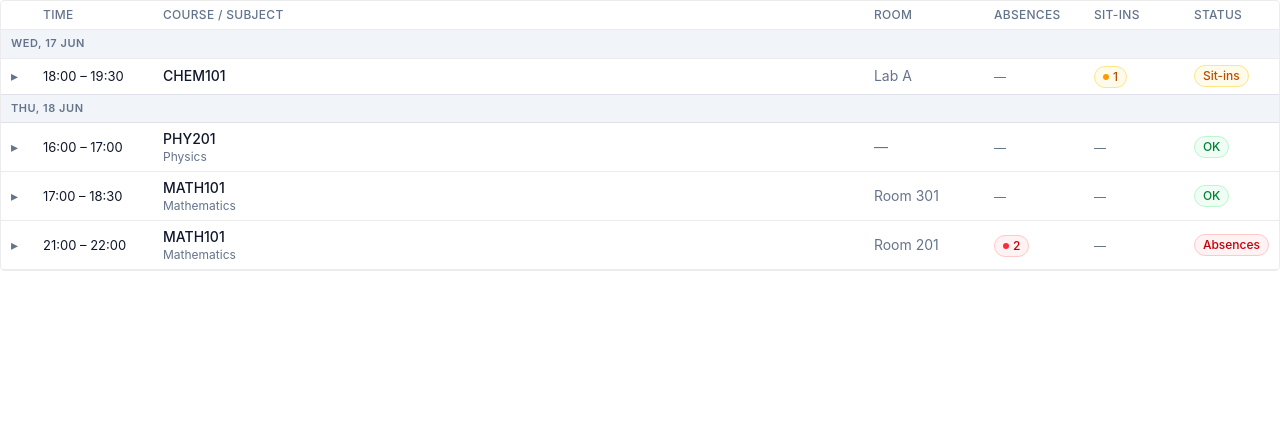
Scenario: SessionTable › expanded detail shows absent student names and wcodes
What coordinates should you click on to do the following:
click the text "2"
I would click on:
 (1012, 246)
Its box is 994,235 -> 1029,257.
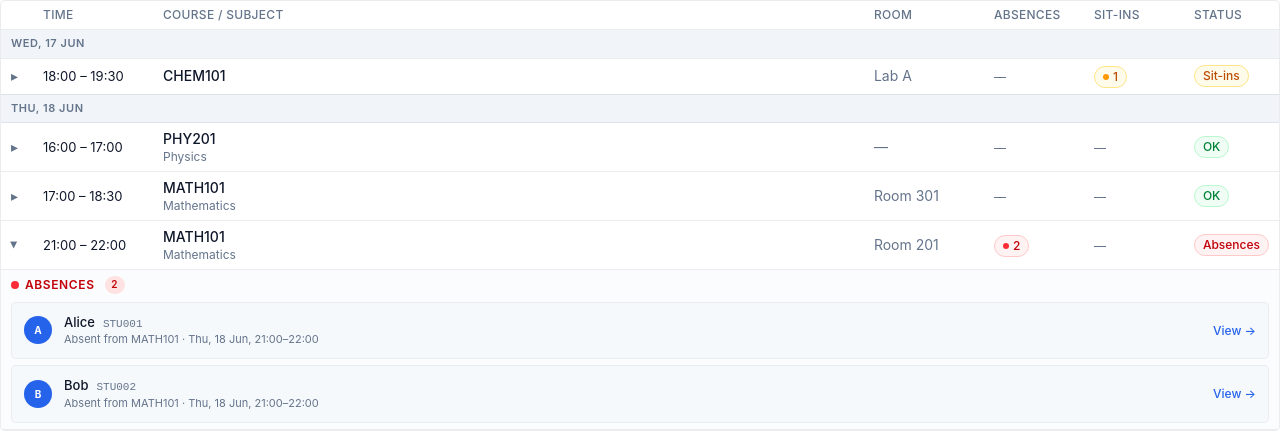
Check: the text "Alice" is shown, box 64,313 -> 95,331
Check: the text "STU001" is shown, box 103,317 -> 142,332
Check: the text "Bob" is shown, box 64,376 -> 88,395
